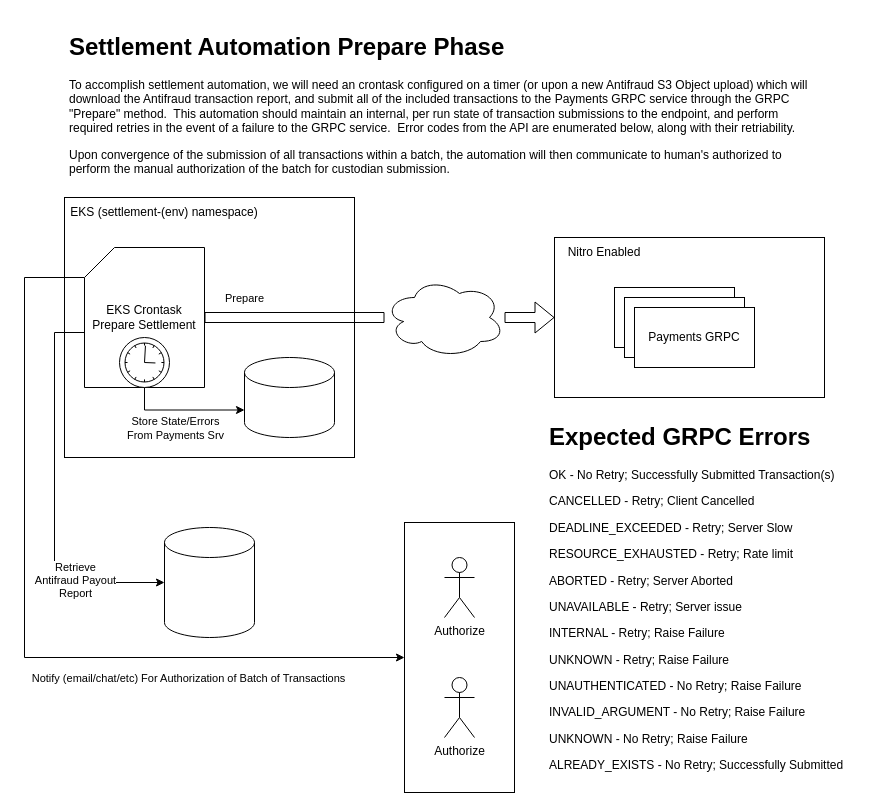
Image size: 872x810. Some labels were removed from this diagram. Each missing label, with the box of its shape:
Antifraud S3 Bucket: (164, 526, 254, 638)
prepare state/retry queue/cache: (244, 356, 334, 438)
